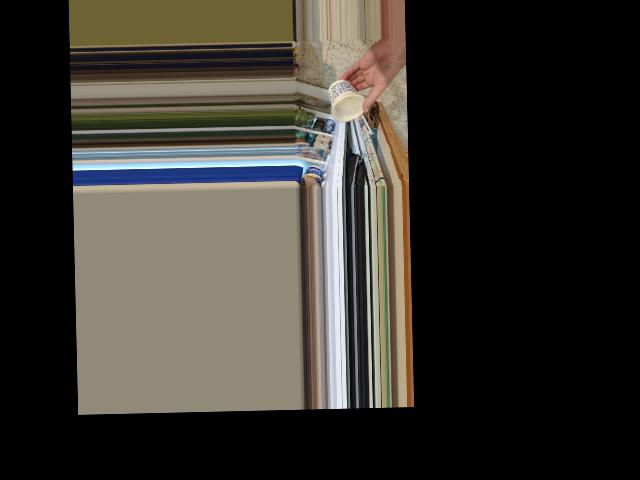cotage: (331, 79, 364, 121)
